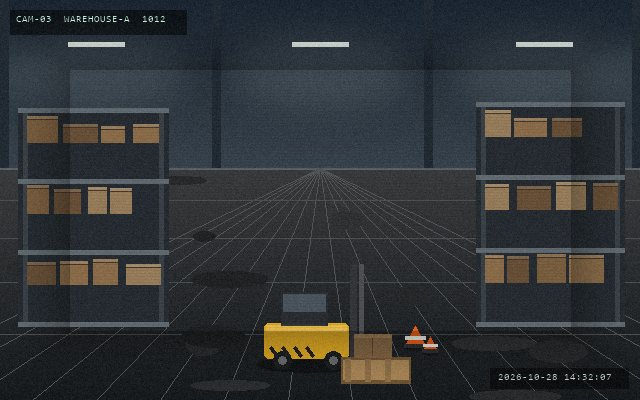cone: (403, 324, 427, 350), (421, 334, 439, 355)
forklift: (260, 262, 392, 372)
pallet: (339, 355, 412, 385)
shelf: (476, 102, 624, 322), (18, 108, 168, 322)
